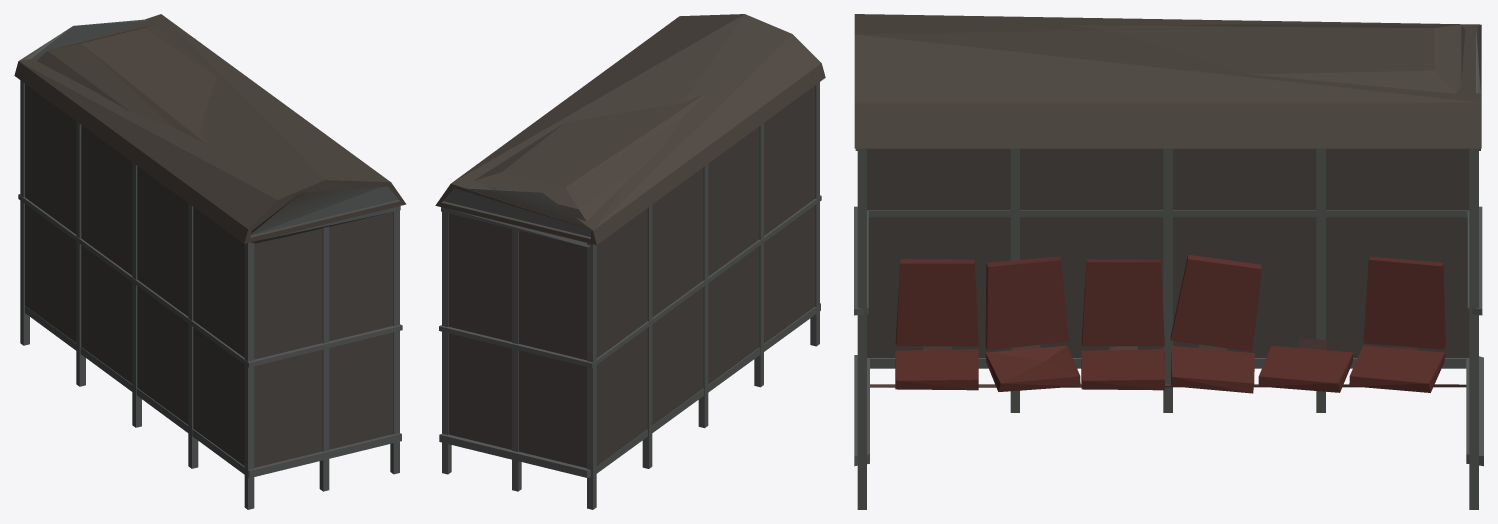
Rendered from tram-shelter.lod1.glb.
3 views of the same model, side by side, from view 1: azimuth 30°, elevation 25°; view 2: azimuth 150°, elevation 25°; view 3: azimuth 270°, elevation 25° (orthographic). The views are drawn at different scales.
Parts seen in each view (by area): view 1: BusStop_low_base_0; view 2: BusStop_low_base_0; view 3: BusStop_low_base_0.
Boxes of the visible parts, x1=… form: BusStop_low_base_0: x1=14, y1=14, x2=406, y2=509; BusStop_low_base_0: x1=435, y1=14, x2=825, y2=509; BusStop_low_base_0: x1=854, y1=14, x2=1483, y2=509.
Bounding box in the file's own units: 2.43 × 4.47 × 6.
